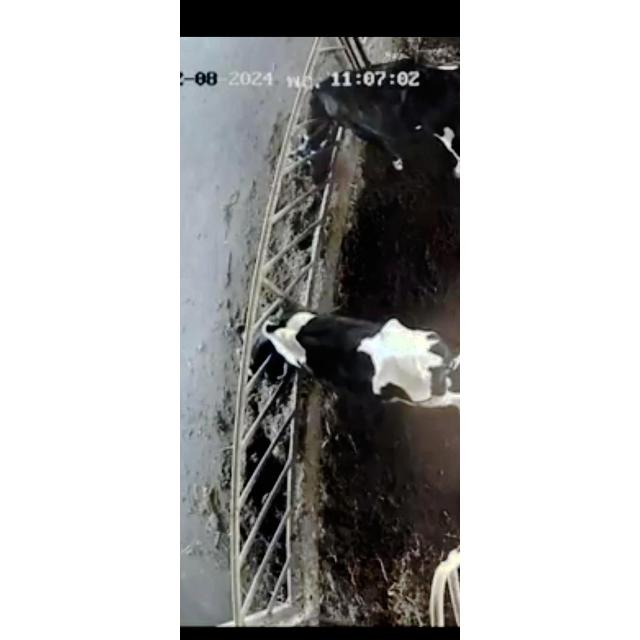eat: (254, 60, 402, 170), (215, 298, 341, 380)
